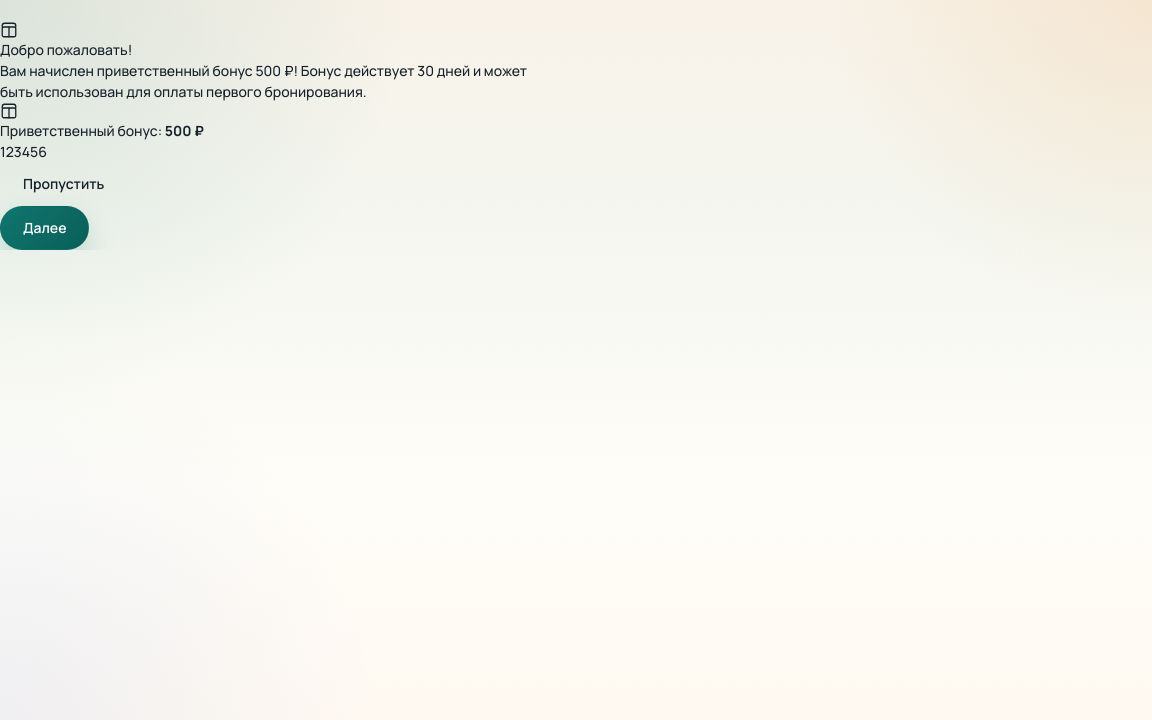
Test case: OnboardingTour › navigates back
What coordinates should you click on to do the following:
click the button "Далее"
I would click on:
 (45, 228)
Its box is [0,206,90,250].
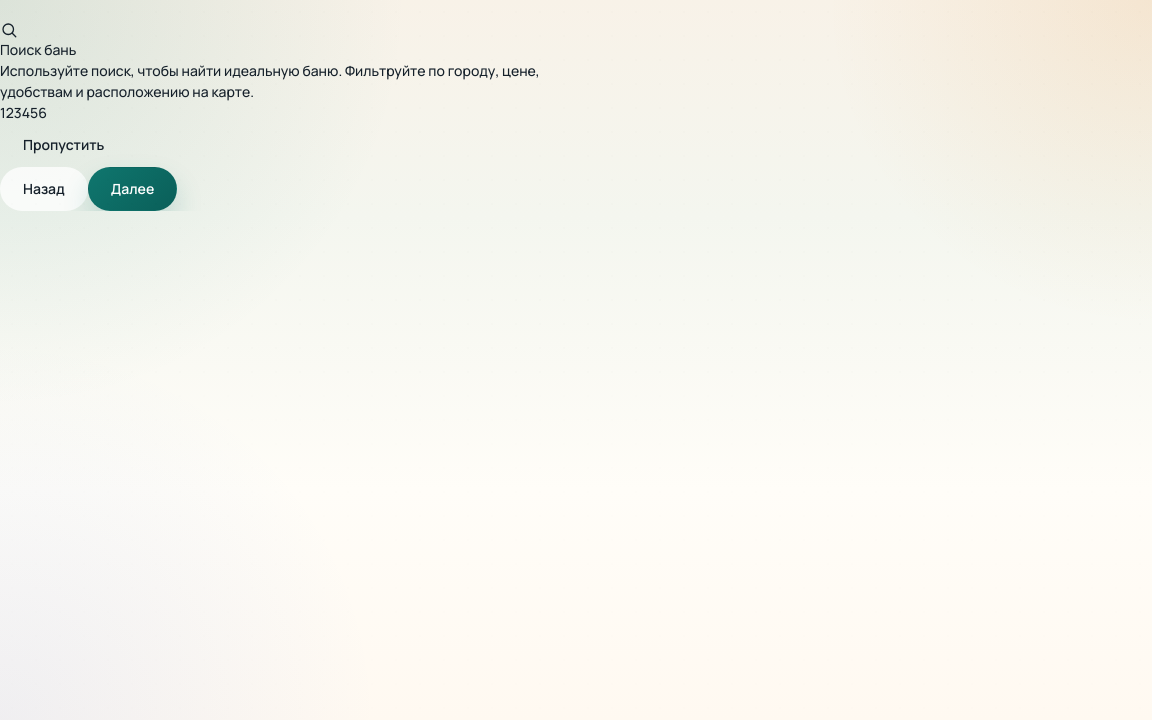
Now the heading "Поиск бань" is shown, box [0,40,76,59]
What coordinates should you click on to do the following:
click the button "Назад"
I would click on:
 (44, 189)
Its box is [0,167,88,211].
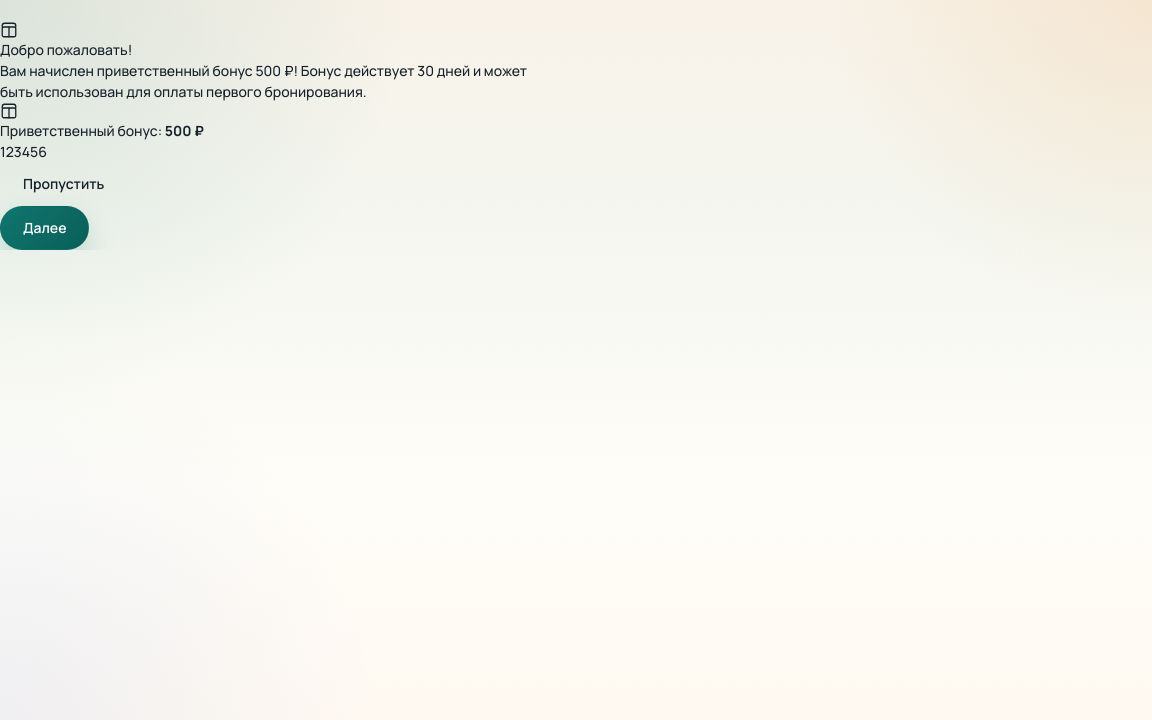
Now the heading "Добро пожаловать!" is shown, box [0,40,132,59]
